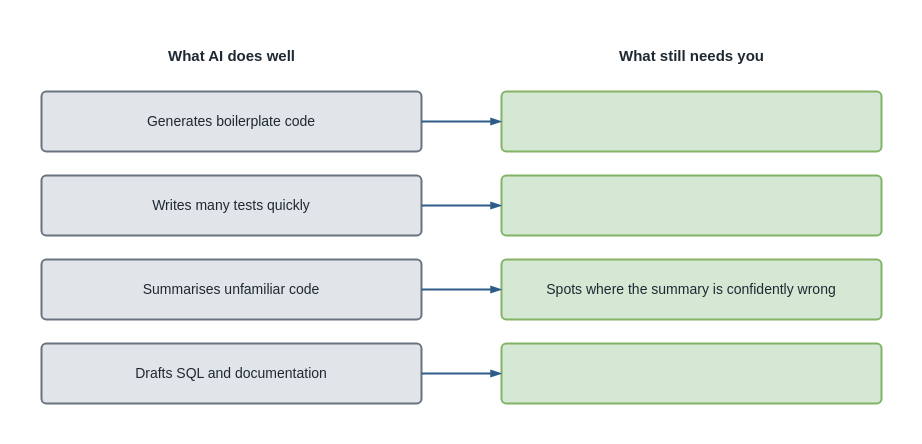
The diagram is 922 pixels wide and 444 high, and some of its shapes have lost their labels. The shapes that lost their labels are listed below. From the top down, each one's box as (x1, y1, x2, y2) in pixels, then its label:
(500, 90, 882, 152): Decides the data model and who may access what
(500, 174, 882, 236): Chooses which cases actually matter
(500, 342, 882, 404): Explains the decision to the team
